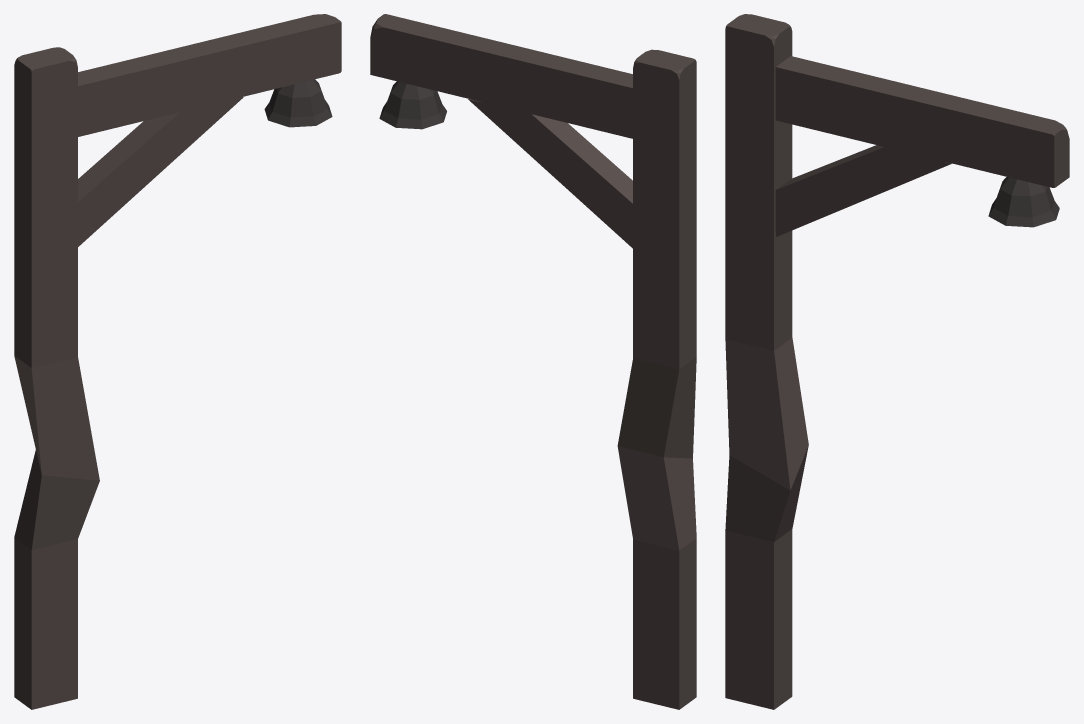
File: Wood_Lamp.fbx
3 renders of one model, left to right at view 1: azimuth 30°, elevation 25°; view 2: azimuth 150°, elevation 25°; view 3: azimuth 330°, elevation 25°, orthographic. The views are drawn at different scales.
Visible parts, largest first — view 1: Wood_Lamp; view 2: Wood_Lamp; view 3: Wood_Lamp.
Boxes of the visible parts, <box> form: Wood_Lamp: <box>14,14,341,709</box>; Wood_Lamp: <box>370,14,696,709</box>; Wood_Lamp: <box>725,14,1069,709</box>.
Bounding box in the file's own units: 277 × 544 × 54.3.
Materials: 1 (1 with a texture image).
